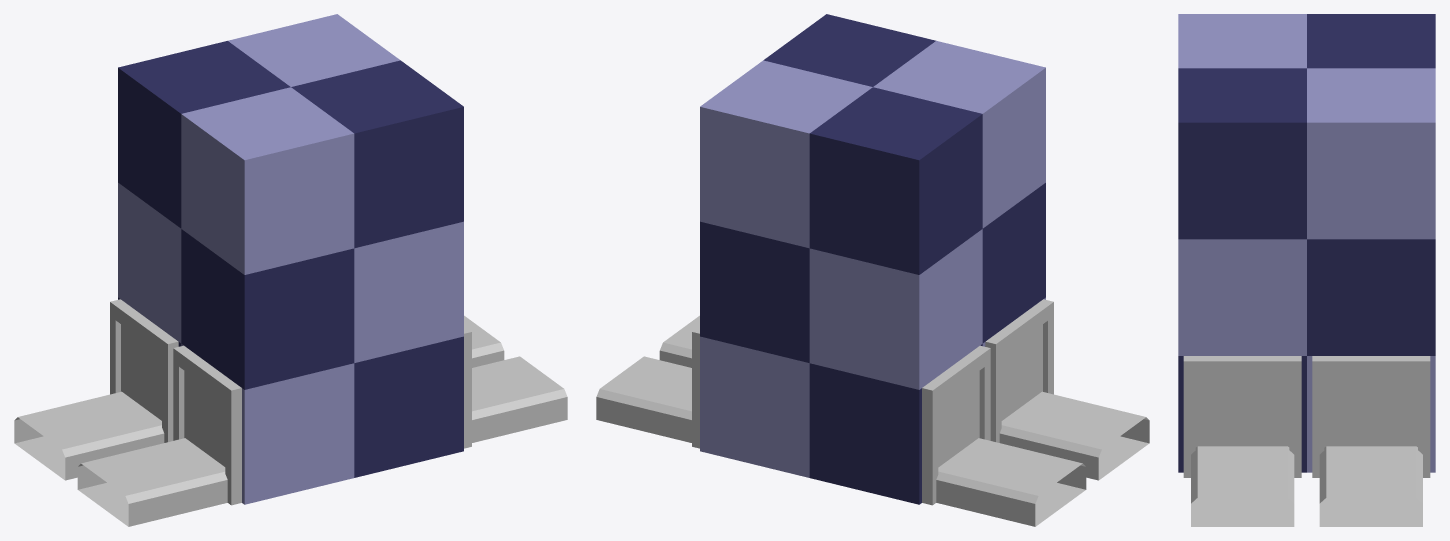
Rendered from SmallStorage_StorageUnitMini.obj.
3 views of the same model, side by side, from view 1: azimuth 30°, elevation 25°; view 2: azimuth 150°, elevation 25°; view 3: azimuth 270°, elevation 25° (orthographic).
Size of the model in its own units: 8 by 6 by 4.
